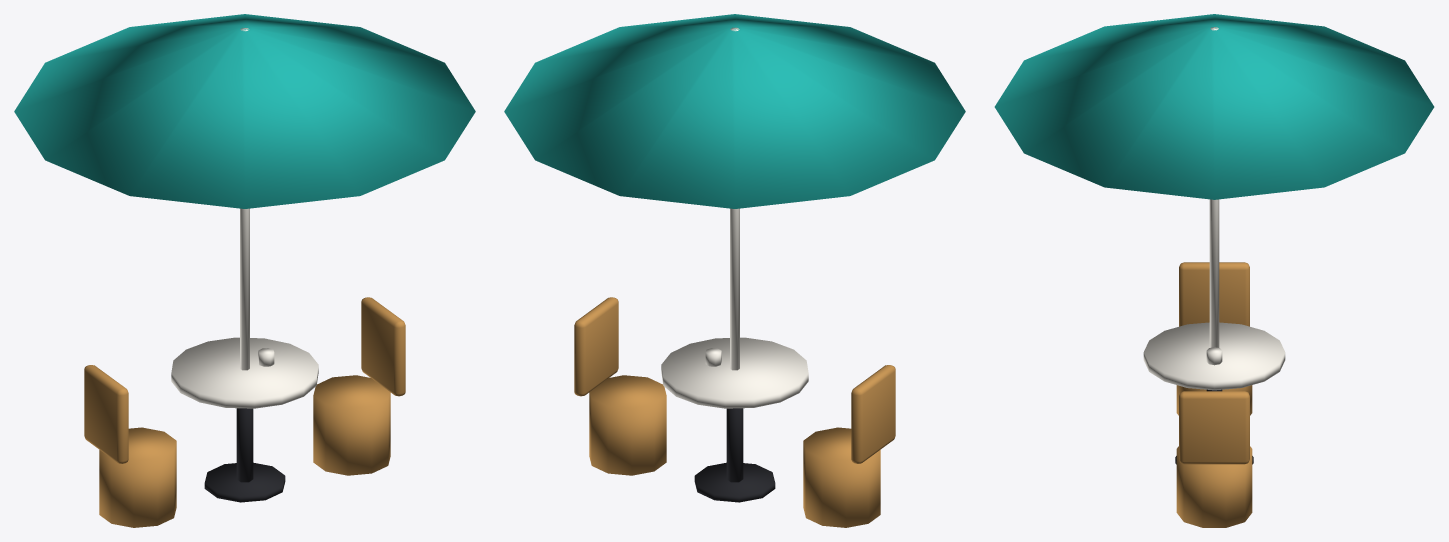
File: cafe_set_turq.gltf
3 views of the same model, side by side, from view 1: azimuth 30°, elevation 25°; view 2: azimuth 150°, elevation 25°; view 3: azimuth 270°, elevation 25° (orthographic). The views are drawn at different scales.
Parts seen in each view (by area): view 1: cafe_set_turq_mesh; view 2: cafe_set_turq_mesh; view 3: cafe_set_turq_mesh.
Part boxes in pixels (<box>): cafe_set_turq_mesh: <box>14,14,475,527</box>; cafe_set_turq_mesh: <box>504,14,965,527</box>; cafe_set_turq_mesh: <box>994,14,1434,527</box>.
Size of what is drawn, in the model's own units: 2.8 by 3.05 by 2.8.
